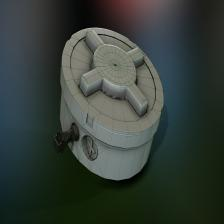PMN2: (49, 20, 166, 187)
